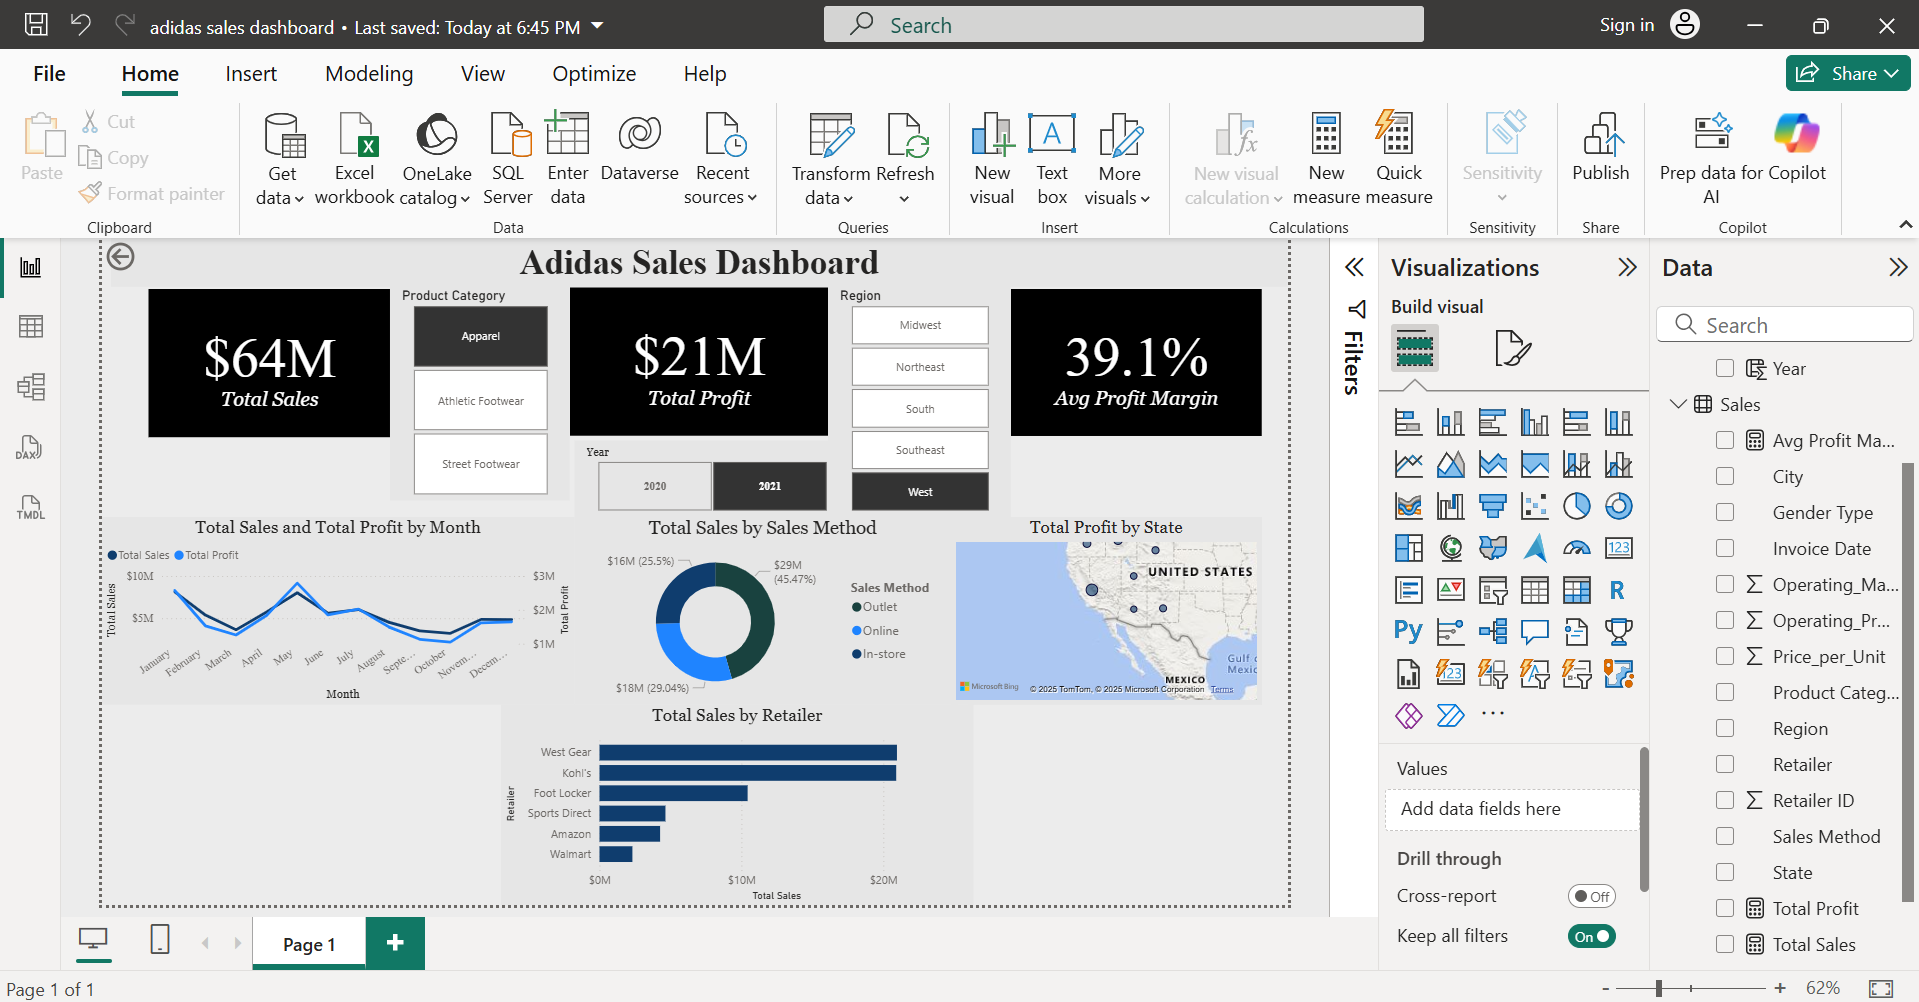

The page's visual inventory and layout, read from the dashboard file:
{"tool":"powerbi","page":{"name":"Page 1","canvas":[1280,720],"ordinal":0},"visuals":[{"type":"textbox","box":[9.4,0,1269.9,52.9],"z":0},{"type":"card","fields":{"Values":["Sales.Total Sales"]},"box":[50.2,55.1,260.7,160.3],"z":1},{"type":"card","fields":{"Values":["Sales.Total Profit"]},"box":[505.2,53.4,278.5,160.3],"z":2},{"type":"card","fields":{"Values":["Sales.Avg Profit Margin"]},"box":[981.3,55.1,270.4,158.7],"z":3},{"type":"slicer","fields":{"Values":["Dates.Year"]},"box":[510.1,218.6,296.3,82.6],"z":4},{"type":"slicer","fields":{"Values":["Sales.Region"]},"box":[783.7,48.6,197.5,252.6],"z":5},{"type":"actionButton","box":[0,0,100,40],"z":6},{"type":"slicer","fields":{"Values":["Sales.Product Category"]},"box":[310.9,48.6,194.3,234.8],"z":7},{"type":"lineChart","fields":{"Category":["Dates.Month"],"Y":["Sales.Total Sales"],"Y2":["Sales.Total Profit"]},"box":[0,301.2,510.1,202.4],"z":8},{"type":"donutChart","fields":{"Category":["Sales.Sales Method"],"Y":["Sales.Total Sales"]},"box":[510.1,301.2,406.4,202.4],"z":9},{"type":"map","fields":{"Category":["Sales.State"],"Size":["Sales.Total Profit"]},"box":[916.5,301.2,335.2,202.4],"z":10},{"type":"barChart","fields":{"Category":["Sales.Retailer"],"Y":["Sales.Total Sales"]},"box":[430.7,503.6,510.1,217],"z":11}]}

Visuals, with their boxes on the page's 1280x720 design canvas (x1, y1, x2, y2). These are canvas units, not pixel positions in the 1919x1002 screenshot, which may show the page scaled, cropped or inside an application window:
textbox: <box>9,0,1279,53</box>
card - Sales.Total Sales: <box>50,55,311,215</box>
card - Sales.Total Profit: <box>505,53,784,214</box>
card - Sales.Avg Profit Margin: <box>981,55,1252,214</box>
slicer - Dates.Year: <box>510,219,806,301</box>
slicer - Sales.Region: <box>784,49,981,301</box>
actionButton: <box>0,0,100,40</box>
slicer - Sales.Product Category: <box>311,49,505,283</box>
lineChart - Dates.Month x Sales.Total Sales: <box>0,301,510,504</box>
donutChart - Sales.Sales Method x Sales.Total Sales: <box>510,301,916,504</box>
map - Sales.State x Sales.Total Profit: <box>916,301,1252,504</box>
barChart - Sales.Retailer x Sales.Total Sales: <box>431,504,941,721</box>
